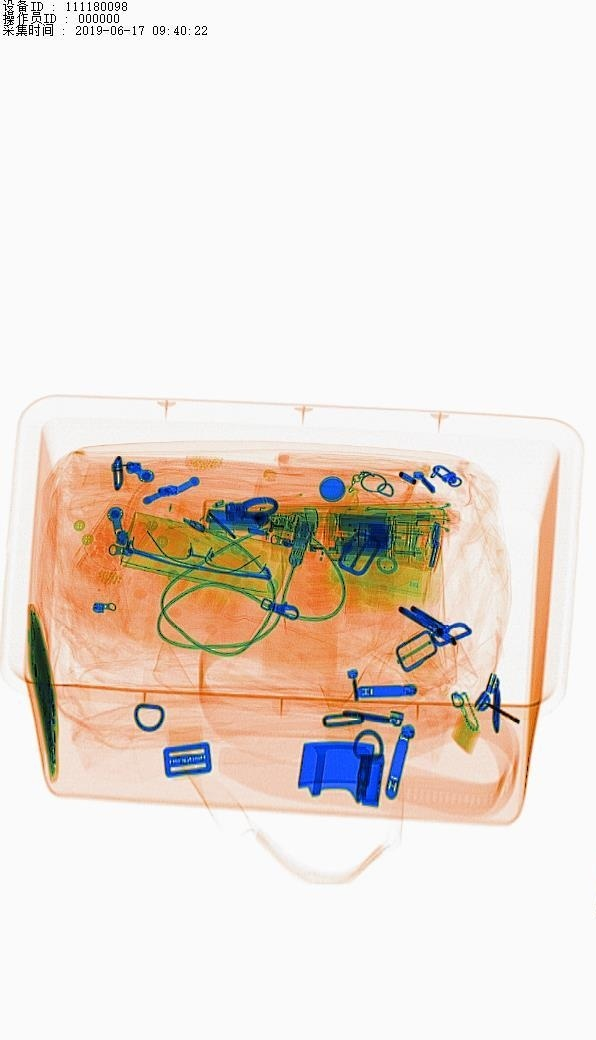NonmetallicFire: (284, 525, 374, 567), (232, 499, 323, 539)
